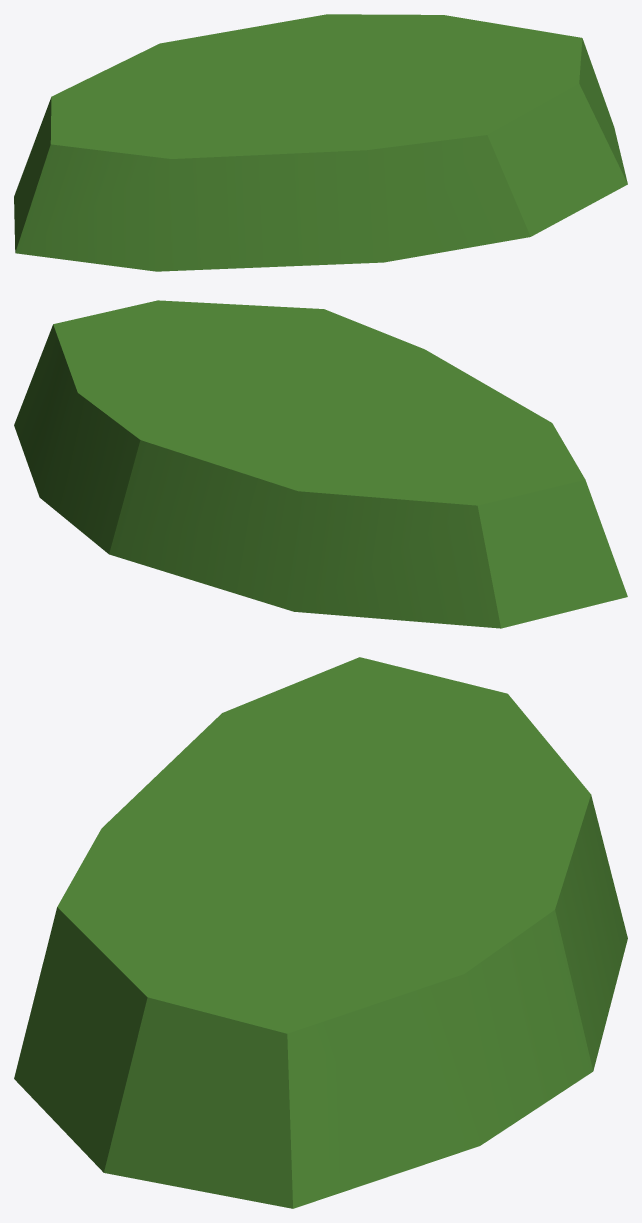
Rendered from grass_layer_crumb_medium_C.fbx.
3 views of the same model, one above another, from view 1: azimuth 30°, elevation 25°; view 2: azimuth 150°, elevation 25°; view 3: azimuth 270°, elevation 25° (orthographic). The views are drawn at different scales.
Visible parts, largest first — view 1: grass_layer_crumb_medium_C; view 2: grass_layer_crumb_medium_C; view 3: grass_layer_crumb_medium_C.
Part boxes in pixels (bbox=[...]): grass_layer_crumb_medium_C: bbox=[14, 14, 627, 271]; grass_layer_crumb_medium_C: bbox=[14, 300, 627, 628]; grass_layer_crumb_medium_C: bbox=[14, 657, 627, 1208].
Bounding box in the file's own units: 93.45 × 15.24 × 56.49.
